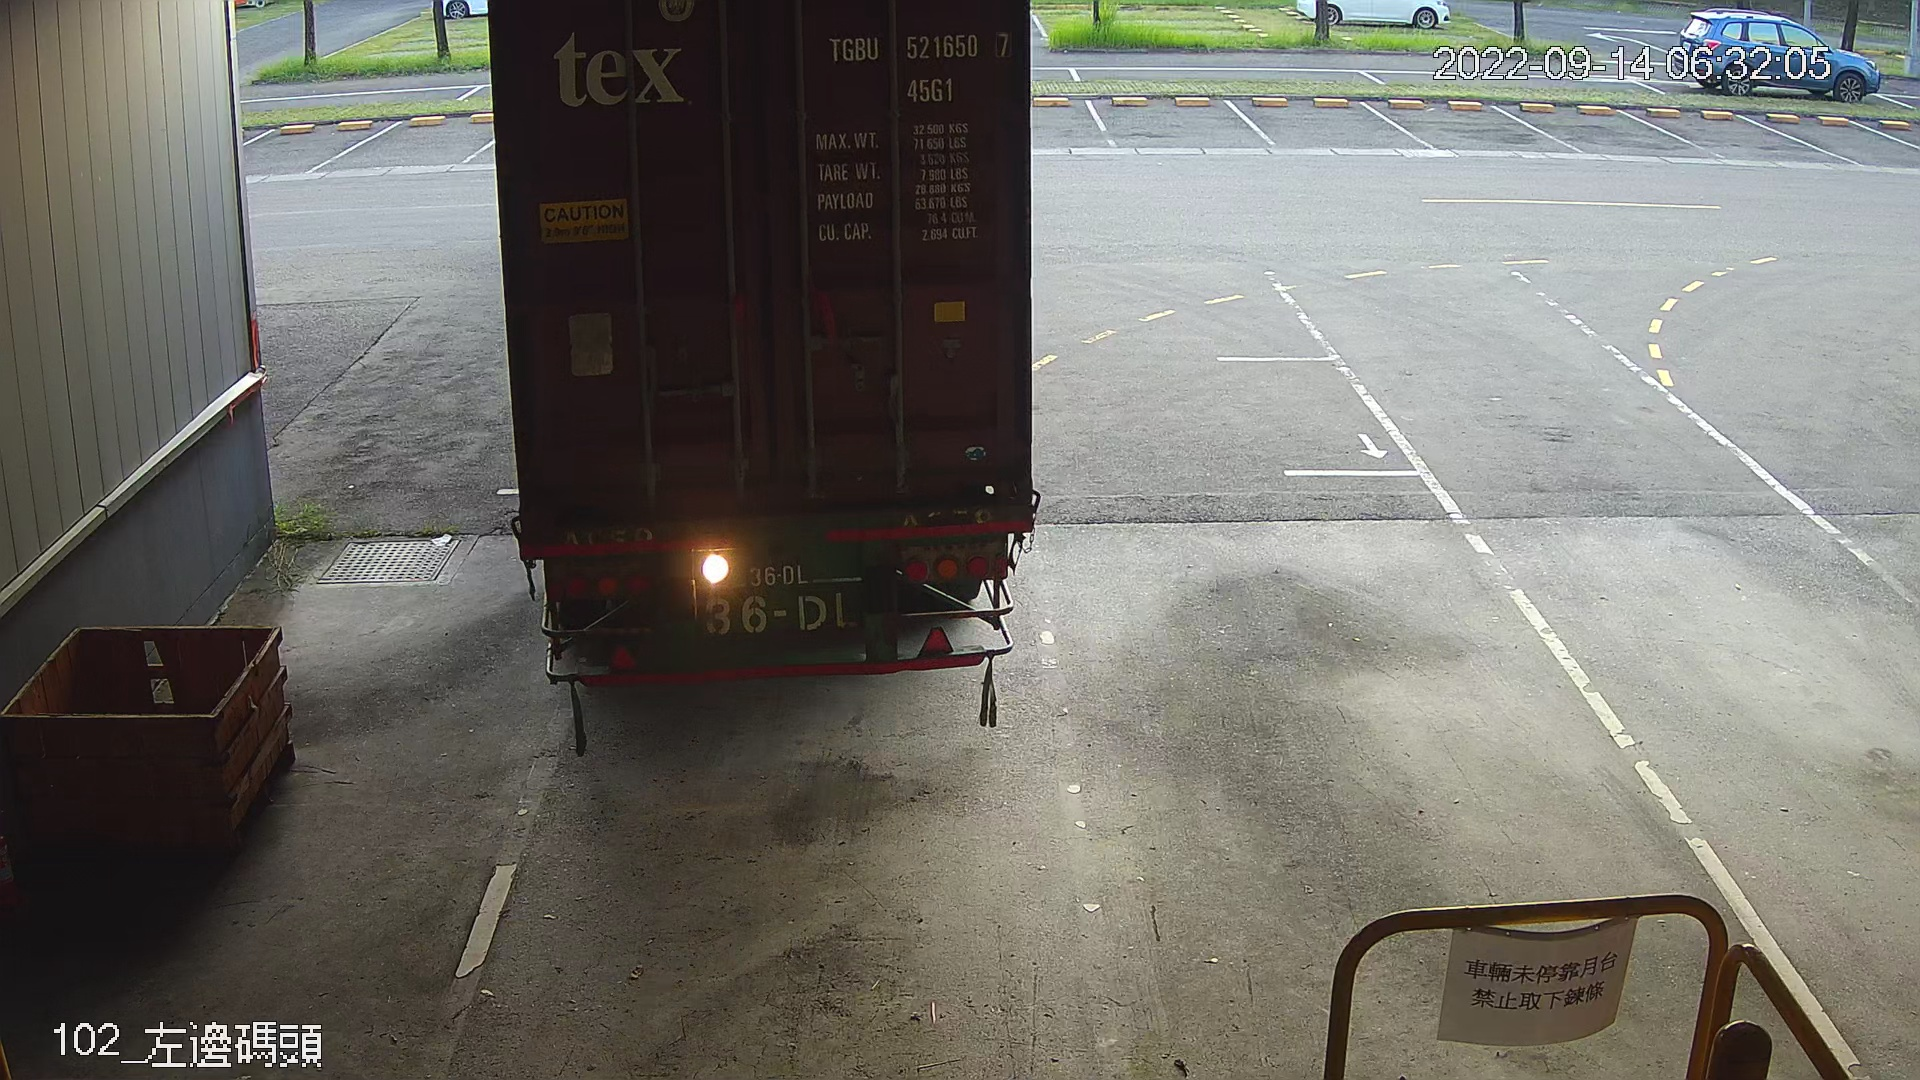container: (819, 26, 1019, 107)
